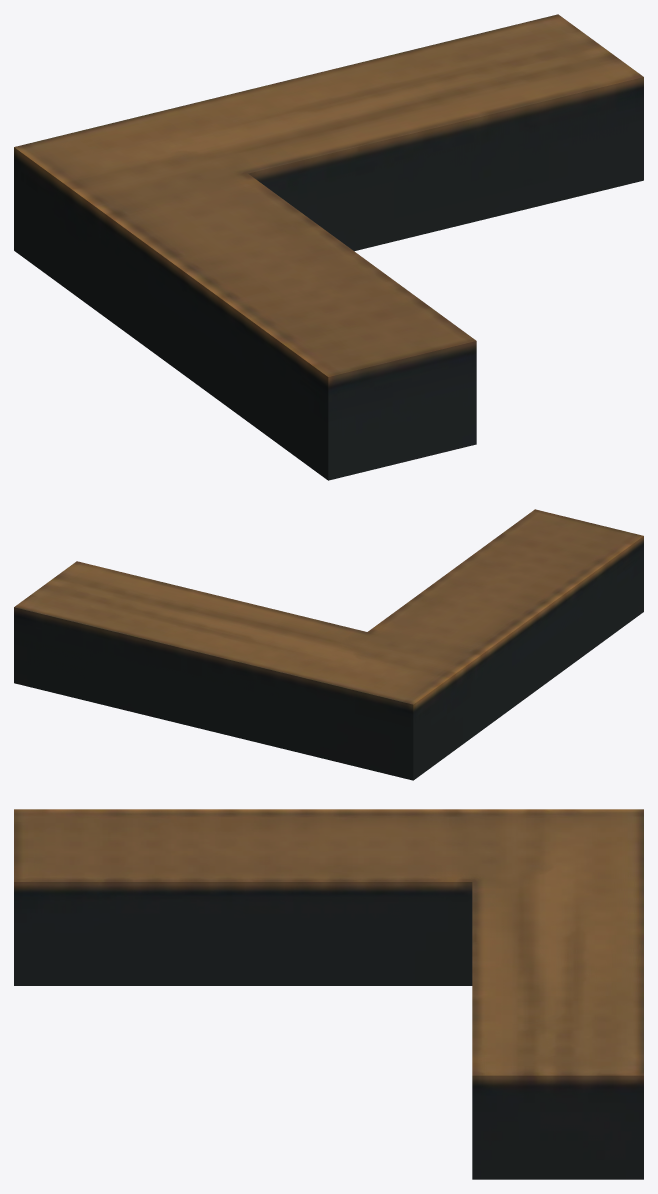
The model's file is link_8__foot-48.glb.
3 views of the same model, one above another, from view 1: azimuth 30°, elevation 25°; view 2: azimuth 150°, elevation 25°; view 3: azimuth 270°, elevation 25° (orthographic). The views are drawn at different scales.
Visible parts, largest first — view 1: world; view 2: world; view 3: world.
Part boxes in pixels (left/top/right/bottom): world: left=14, top=14, right=643, bottom=480; world: left=14, top=509, right=643, bottom=780; world: left=14, top=809, right=643, bottom=1179.
Size of the model in its own units: 0.1155 by 0.021 by 0.1155.
1 material, 1 textured.
